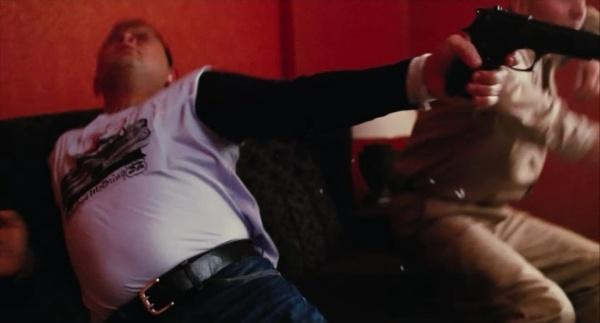Gun: (446, 6, 600, 102)
